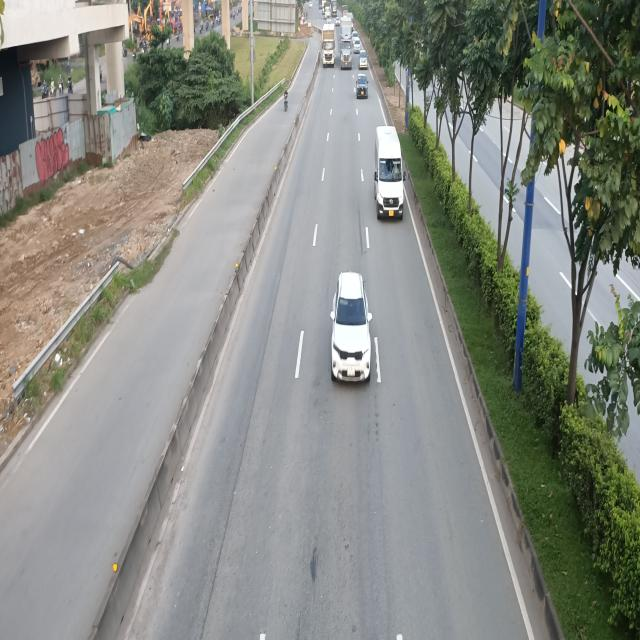car: (330, 275, 374, 387)
container: (339, 25, 351, 72), (322, 23, 335, 65)
van: (372, 126, 404, 220)
